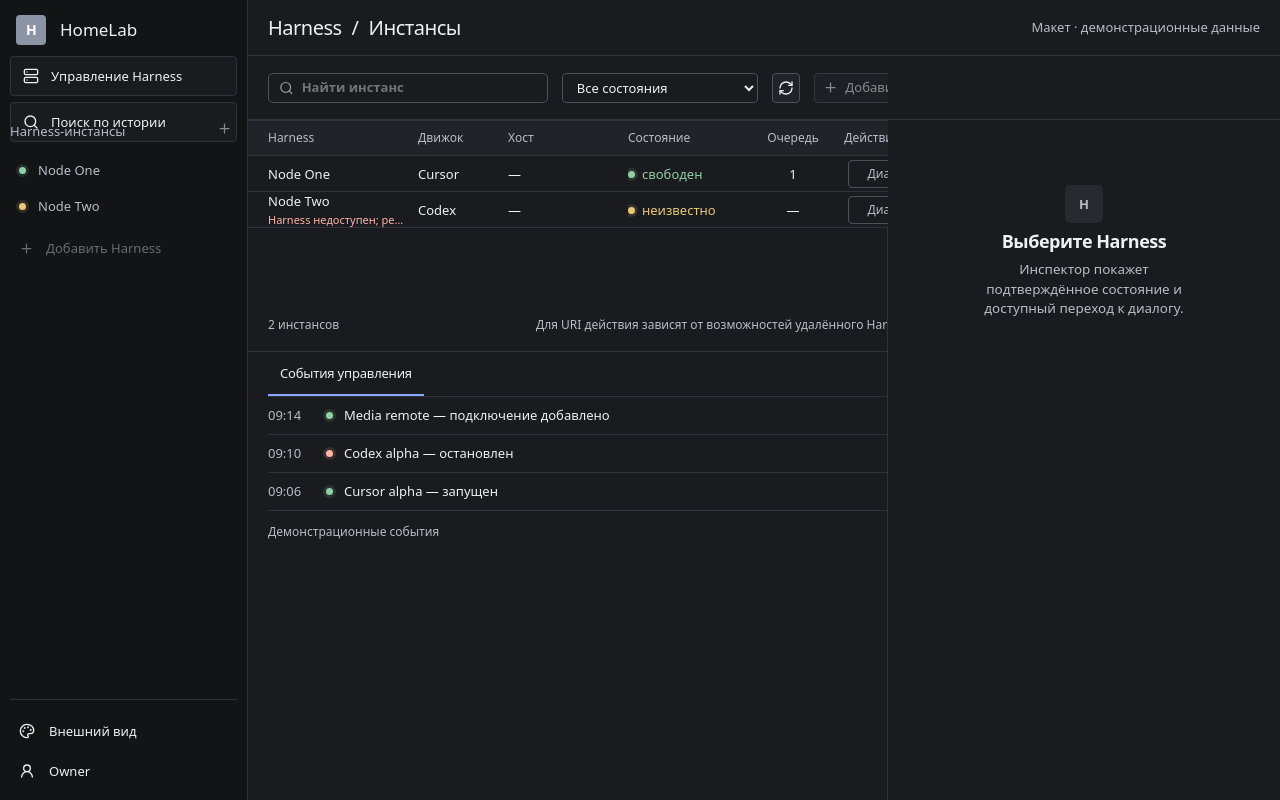
Test: Harness U1 workspace › separates agent management from interaction and keeps an accepted run mounted
This screenshot has width=1280, height=800.
Expected: the heading "Harness / Инстансы" is shown, [268,16,461,40]
Step 1. Click the button with aria-label "Выбрать Harness Node One для управления, свободен" → (299, 174), box [248,156,848,192]
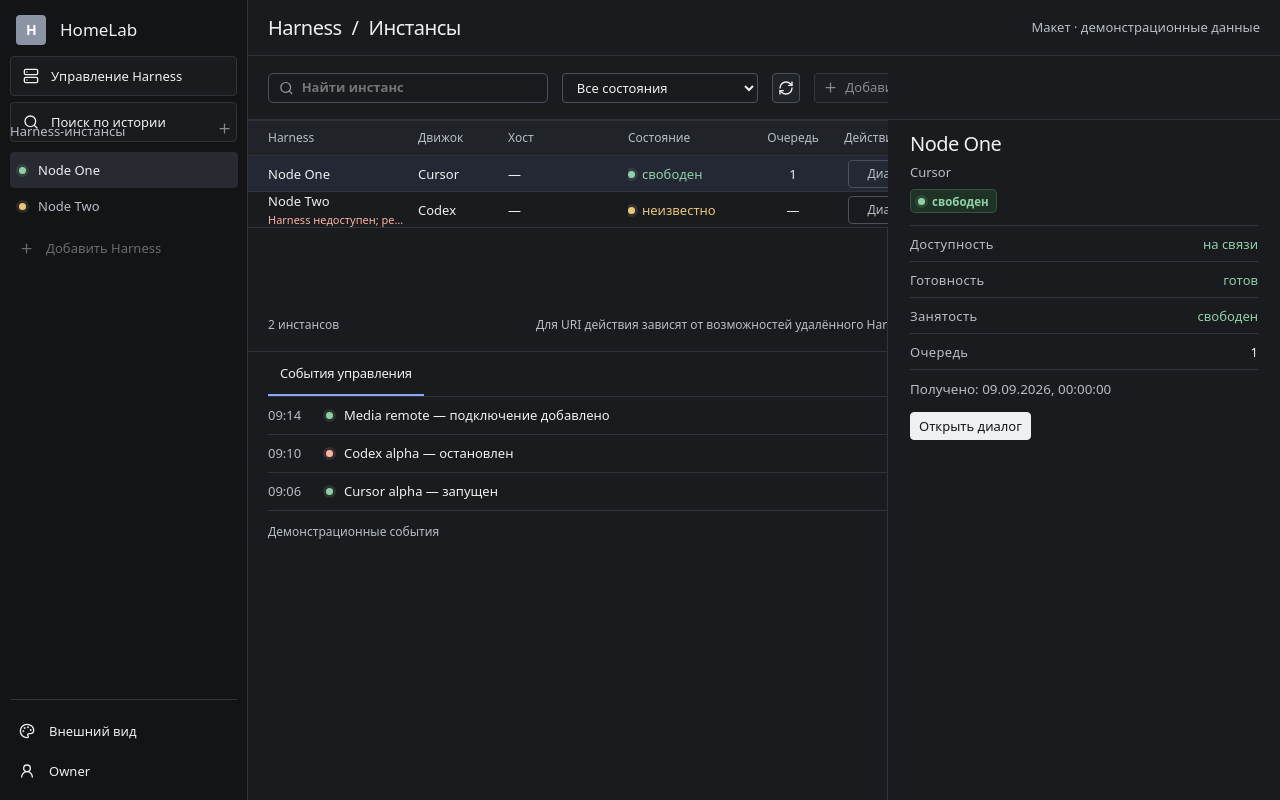
Expected: the heading "Node One" is shown, [910,130,1001,157]
Expected: the text "Доступность" is shown, [910,234,994,252]
Step 2. Click the button with aria-label "Открыть диалог Harness Node One" → (970, 426), box [910,412,1031,440]
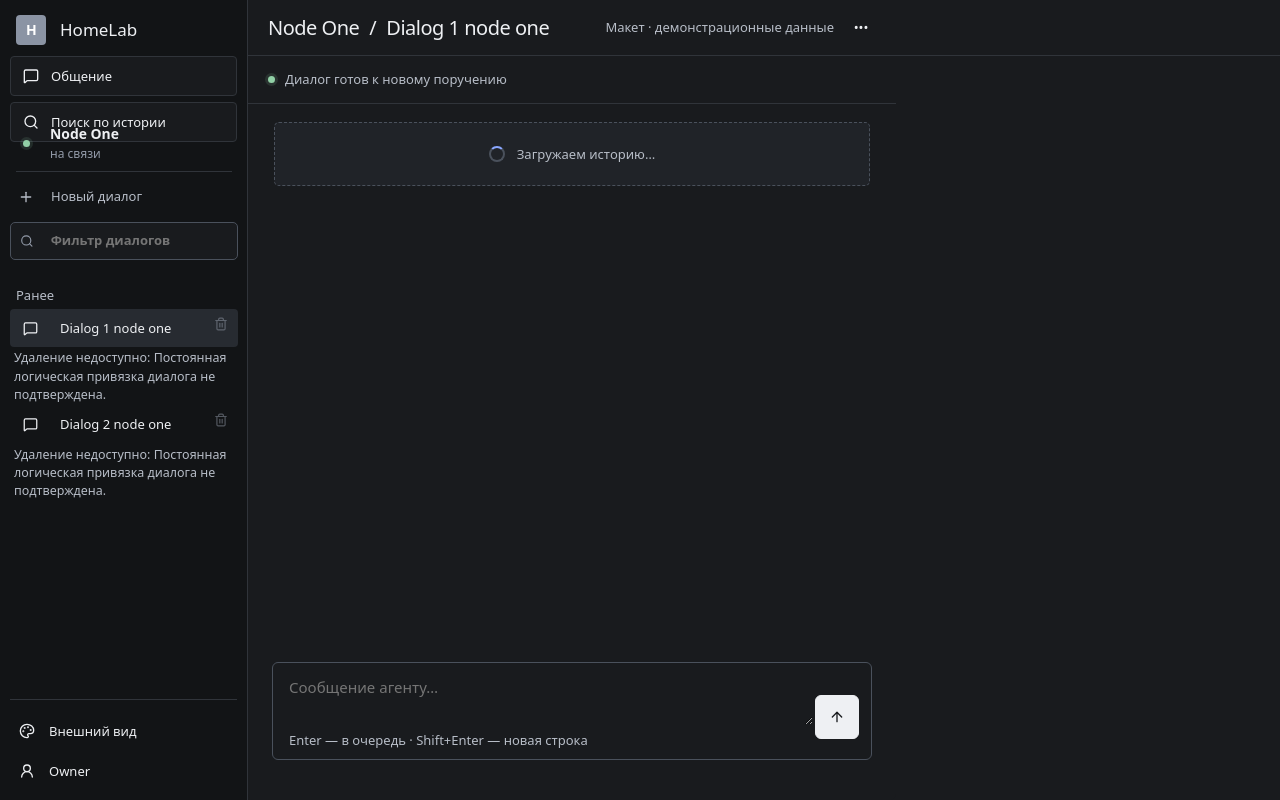
Step 3. Type "accepted in background" into the text box labelled "Сообщение агенту" → (551, 700), box [289,675,813,724]
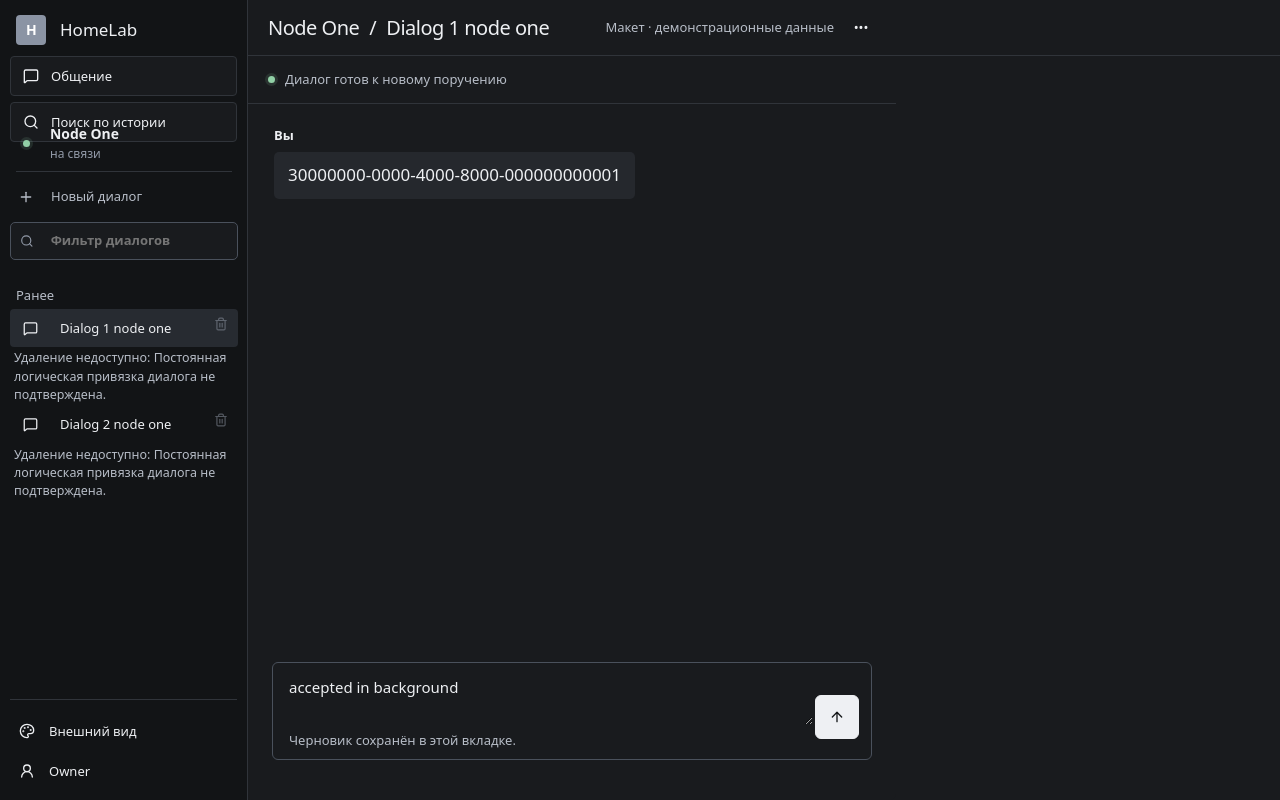
Step 4. Click the button named "Отправить" → (837, 717), box [815,695,859,739]
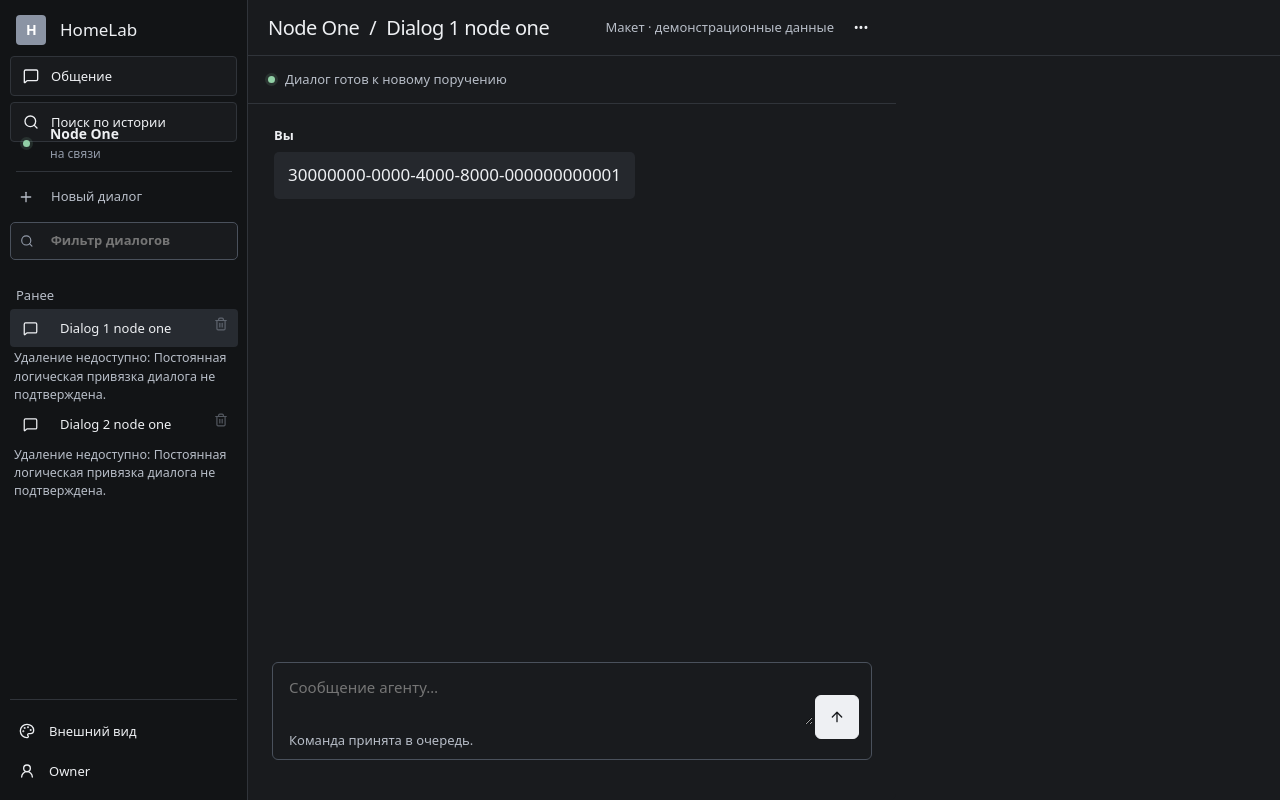
Expected: the text "Команда принята в очередь." is shown, [289,731,473,750]
Step 5. Click the button with aria-label "Открыть управление Harness" → (124, 76), box [10,56,237,96]
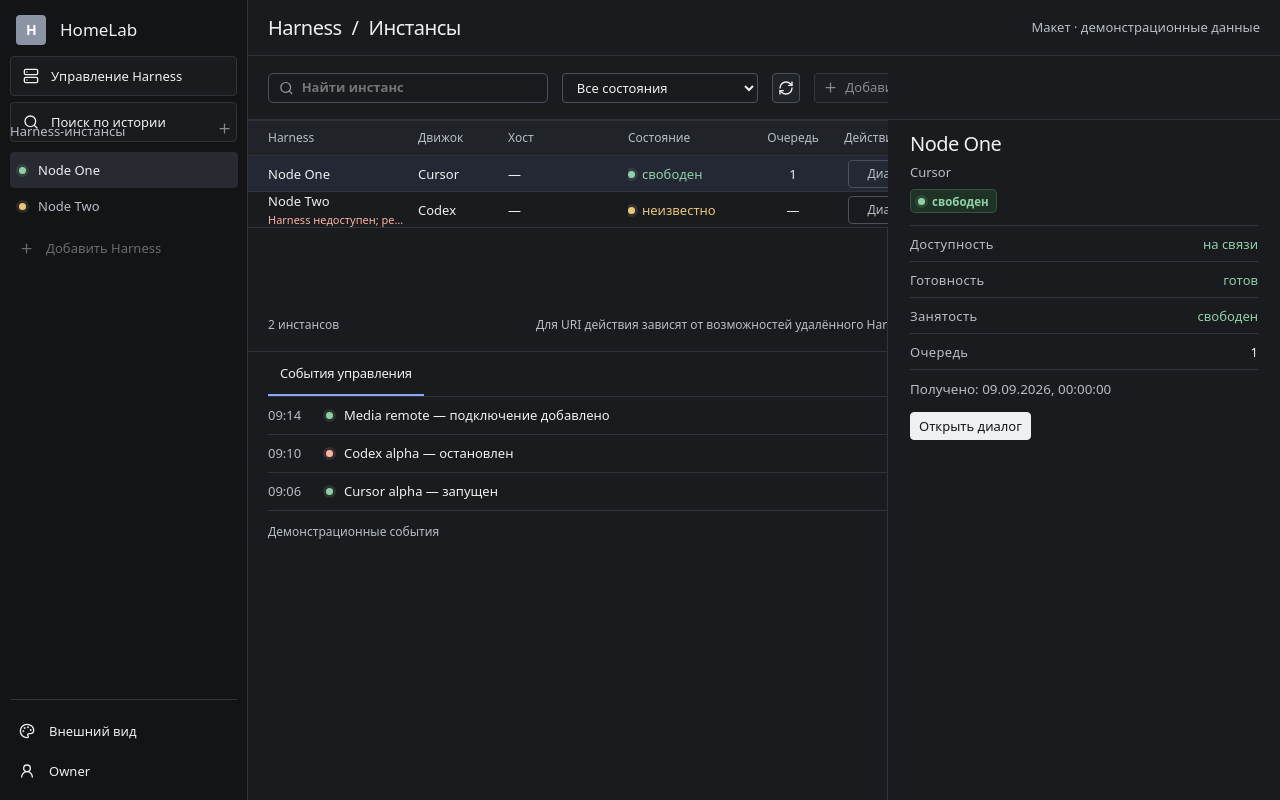
Expected: the heading "Harness / Инстансы" is shown, [268,16,461,40]
Step 6. Click the button with aria-label "Открыть диалог Harness Node One" → (970, 426), box [910,412,1031,440]
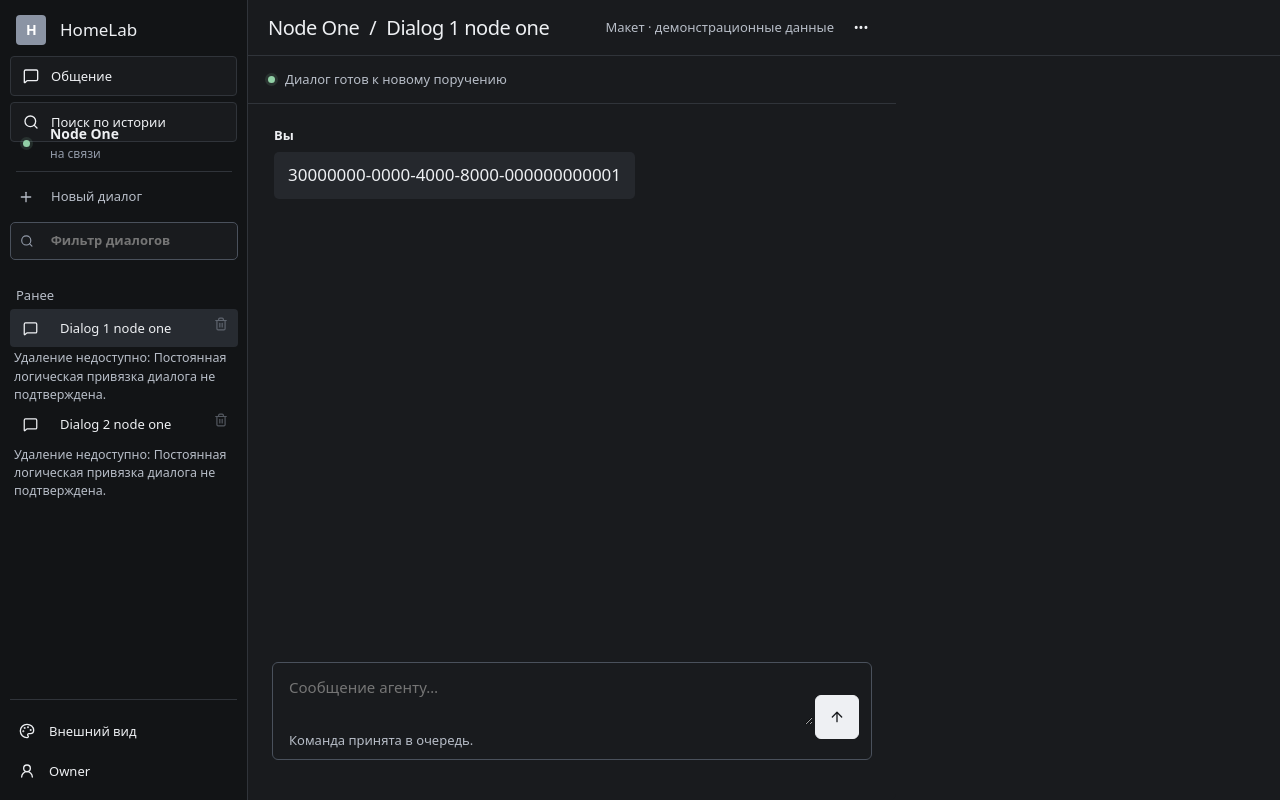
Expected: the text "Команда принята в очередь." is shown, [289,731,473,750]
Expected: the text box labelled "Сообщение агенту" is empty, [289,675,813,724]
